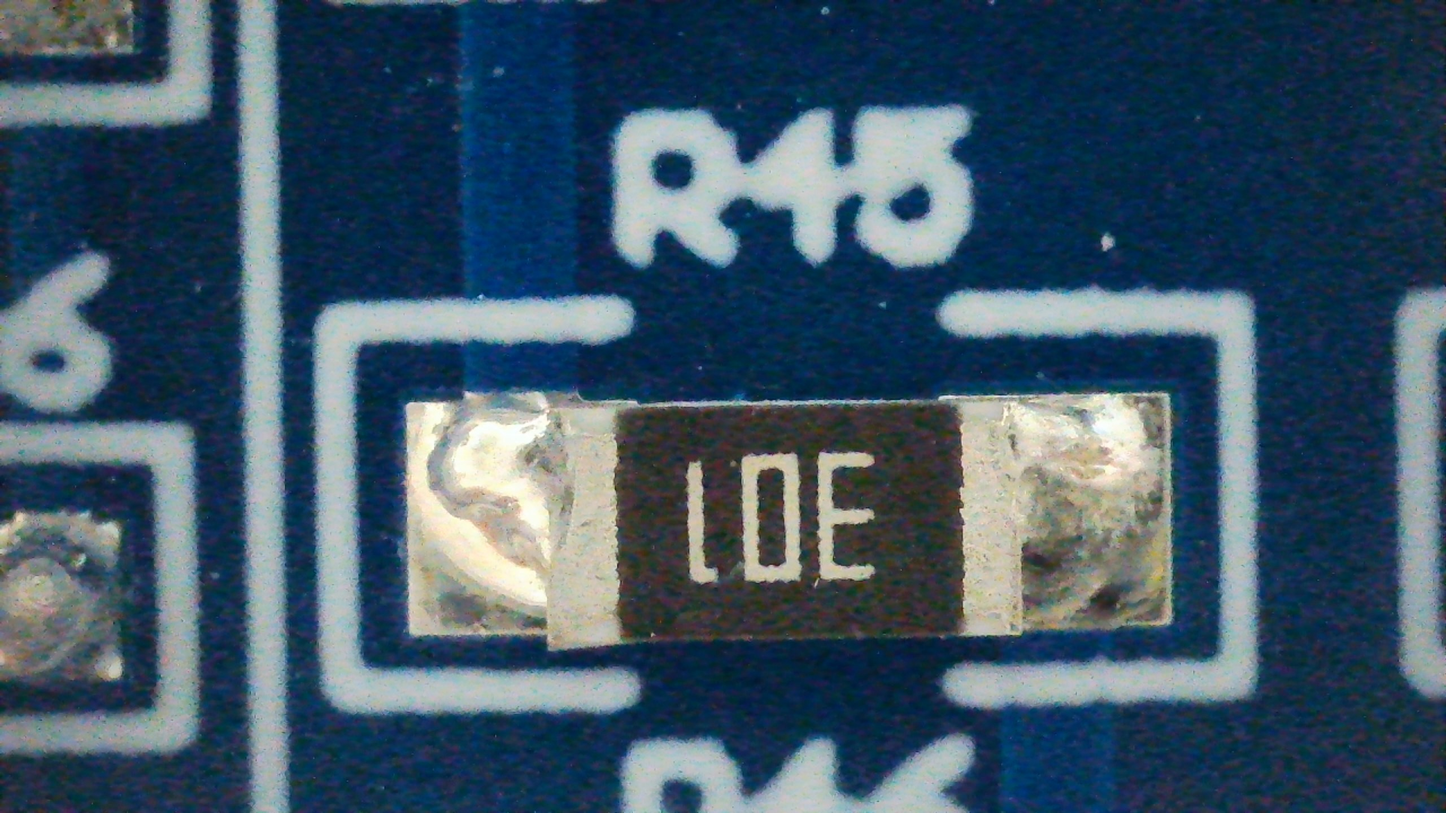OK: (409, 392, 1173, 651)
